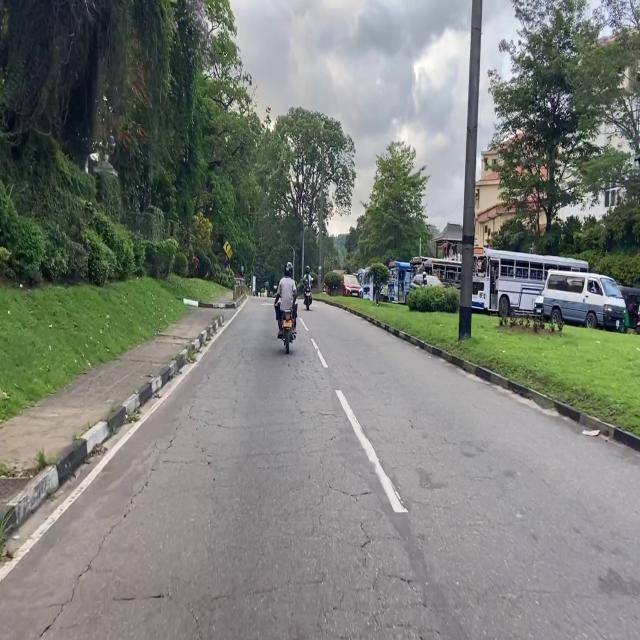bus: (472, 247, 588, 316), (411, 257, 461, 289), (388, 261, 411, 303), (362, 267, 373, 301), (355, 268, 363, 286)
car: (339, 274, 362, 298), (411, 274, 442, 287)
motorcycle: (282, 311, 294, 353), (304, 284, 312, 311)
person: (274, 262, 297, 338), (303, 265, 312, 303), (422, 267, 427, 287)
three wheeler: (620, 286, 640, 331)
van: (540, 271, 625, 329), (533, 292, 543, 315)
